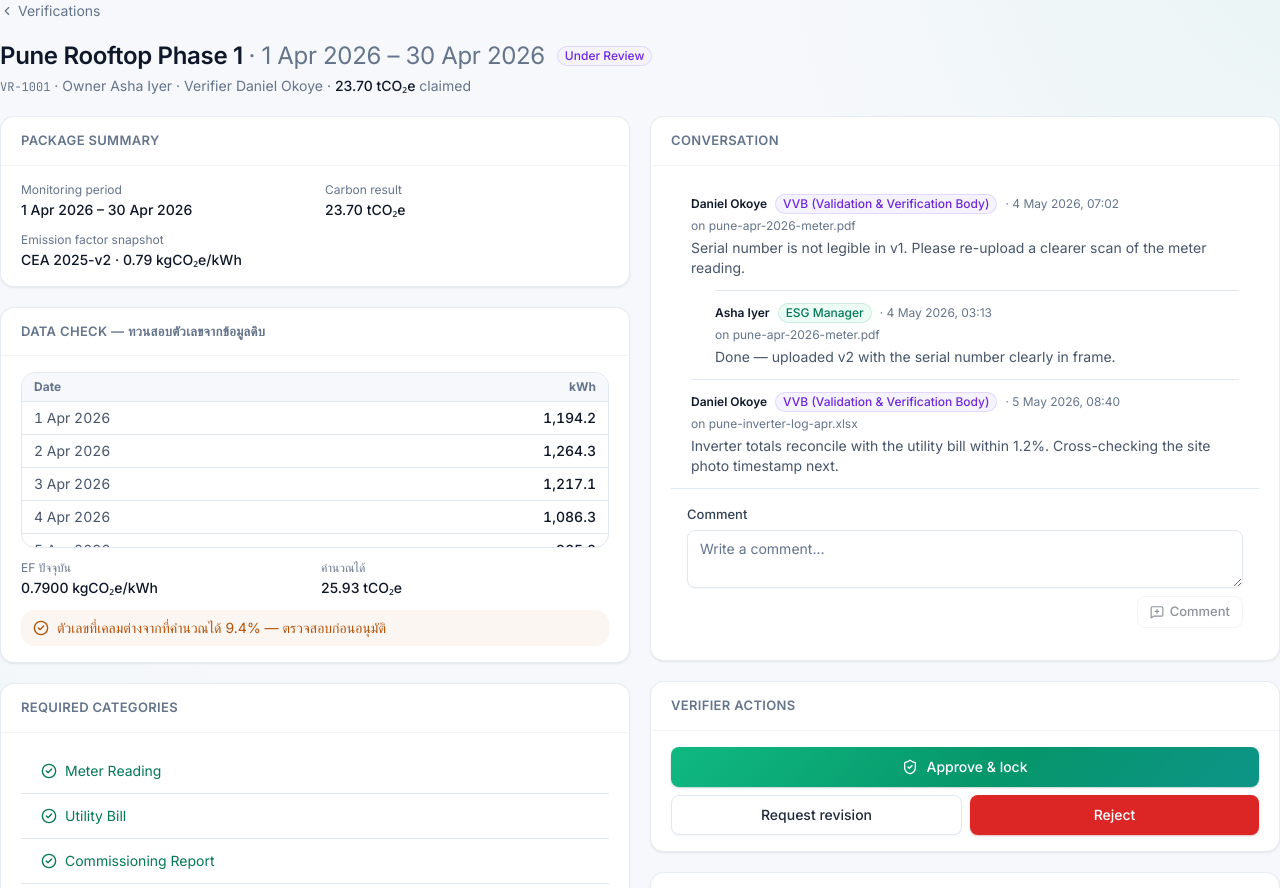
it: ReviewDetail — project name leads, raw id is secondary › the approve confirmation modal is titled with the project name
Click the button "Approve & lock". click: point(965, 766)
box: [671,746,1259,786]
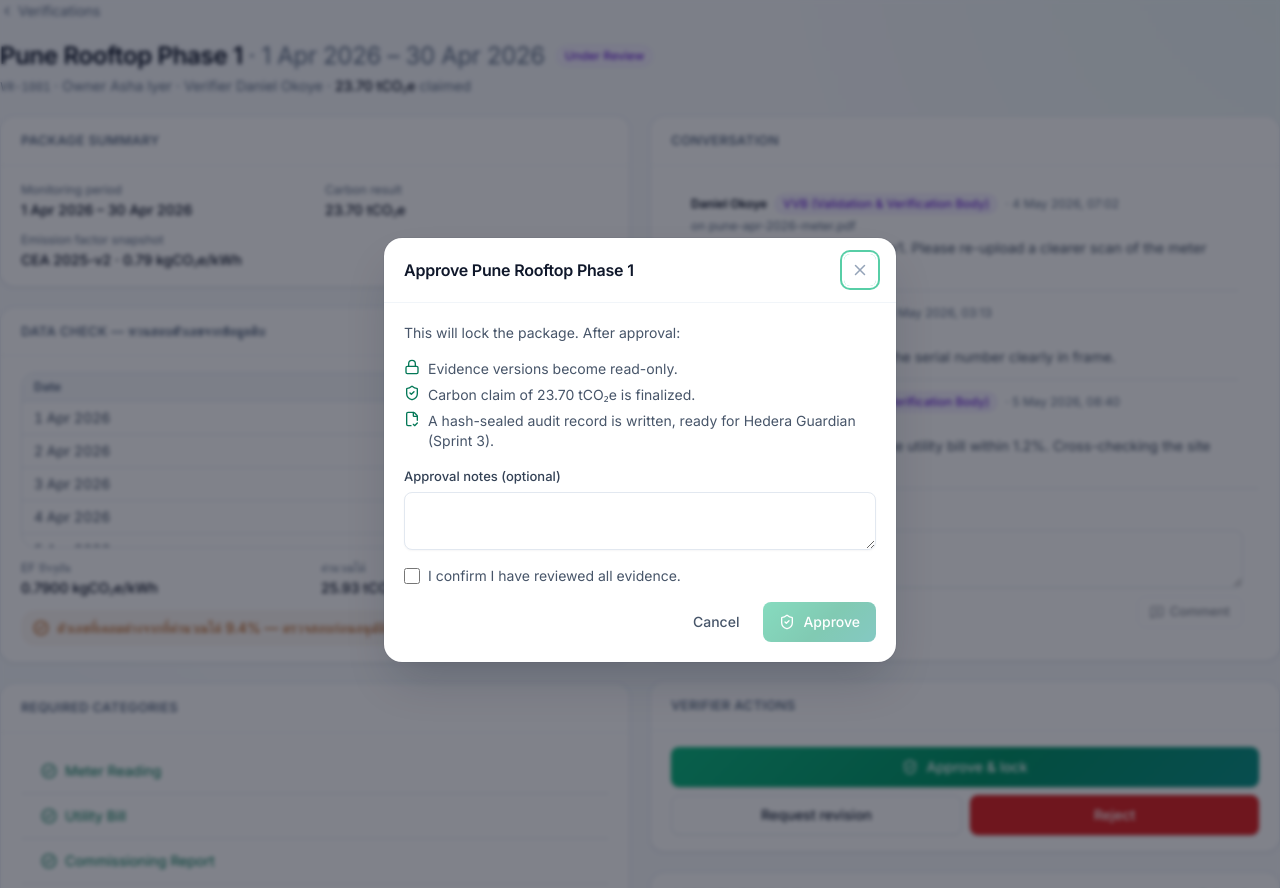
Result: the heading "Approve Pune Rooftop Phase 1" is shown at [404,258,646,282]
